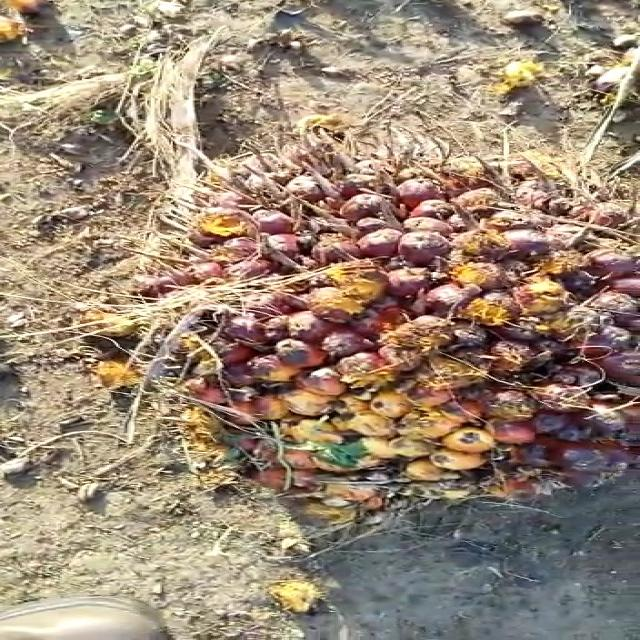palm oil: (139, 124, 640, 516)
